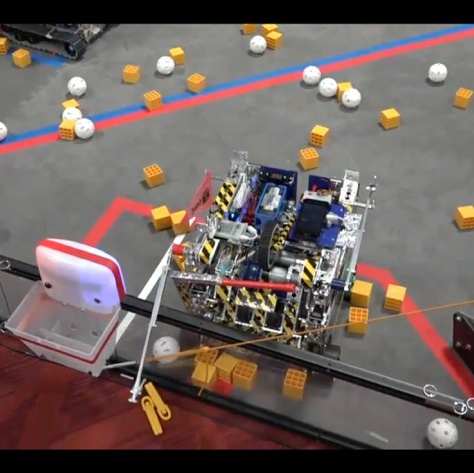robot: (163, 142, 384, 390)
